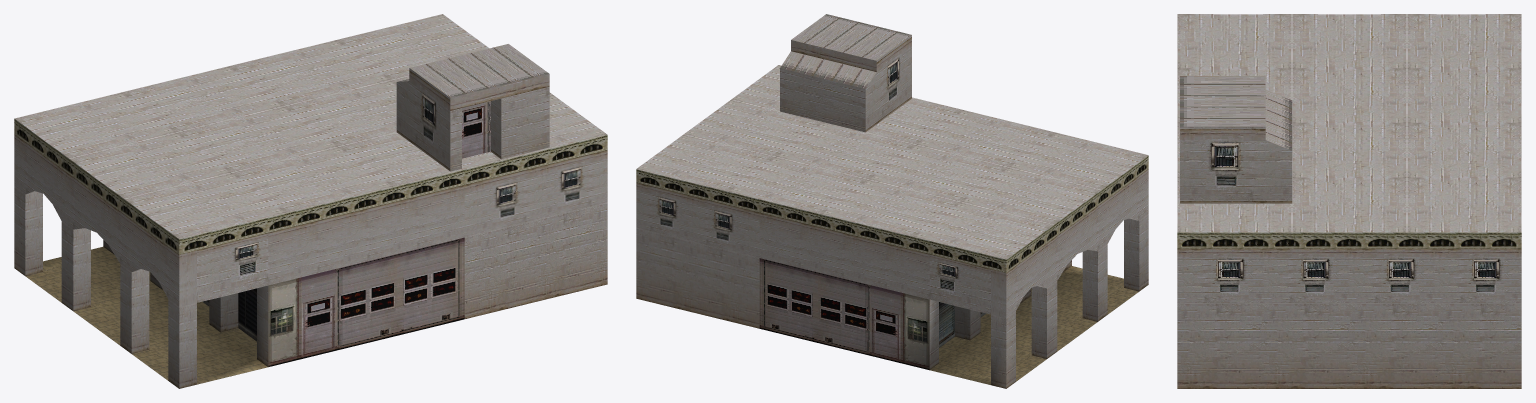
File: M2Zone1_Parade1.glb
The picture shows the model from 3 angles, left to right: view 1: azimuth 30°, elevation 25°; view 2: azimuth 150°, elevation 25°; view 3: azimuth 270°, elevation 25°; orthographic projection. The views are drawn at different scales.
Parts seen in each view (by area): view 1: M2ZONE1_PARADE1; view 2: M2ZONE1_PARADE1; view 3: M2ZONE1_PARADE1.
Part boxes in pixels (<box>): M2ZONE1_PARADE1: <box>14,14,607,388</box>; M2ZONE1_PARADE1: <box>636,14,1148,388</box>; M2ZONE1_PARADE1: <box>1177,14,1521,388</box>.
Bounding box in the file's own units: 24 × 11.97 × 16.
9 materials, 9 textured.
